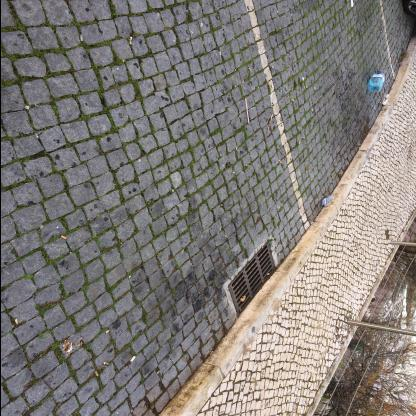plastik: (368, 72, 386, 94), (244, 100, 250, 125), (321, 197, 333, 207)
